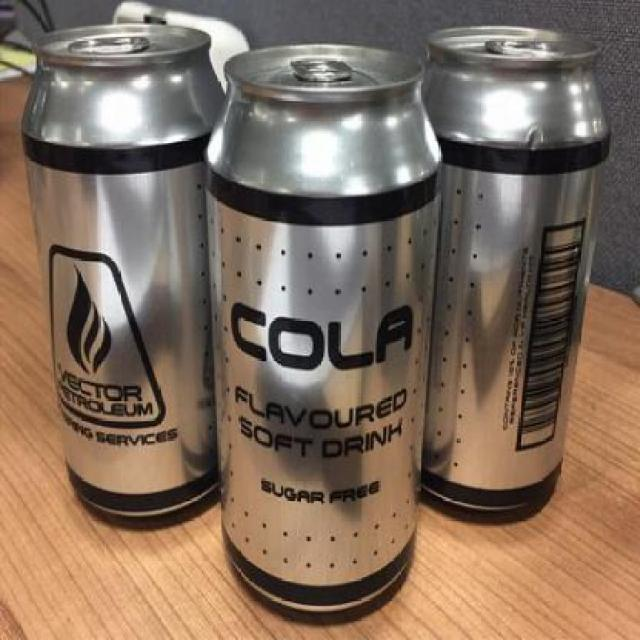can: (202, 24, 442, 638), (17, 14, 231, 531), (423, 11, 608, 550)
